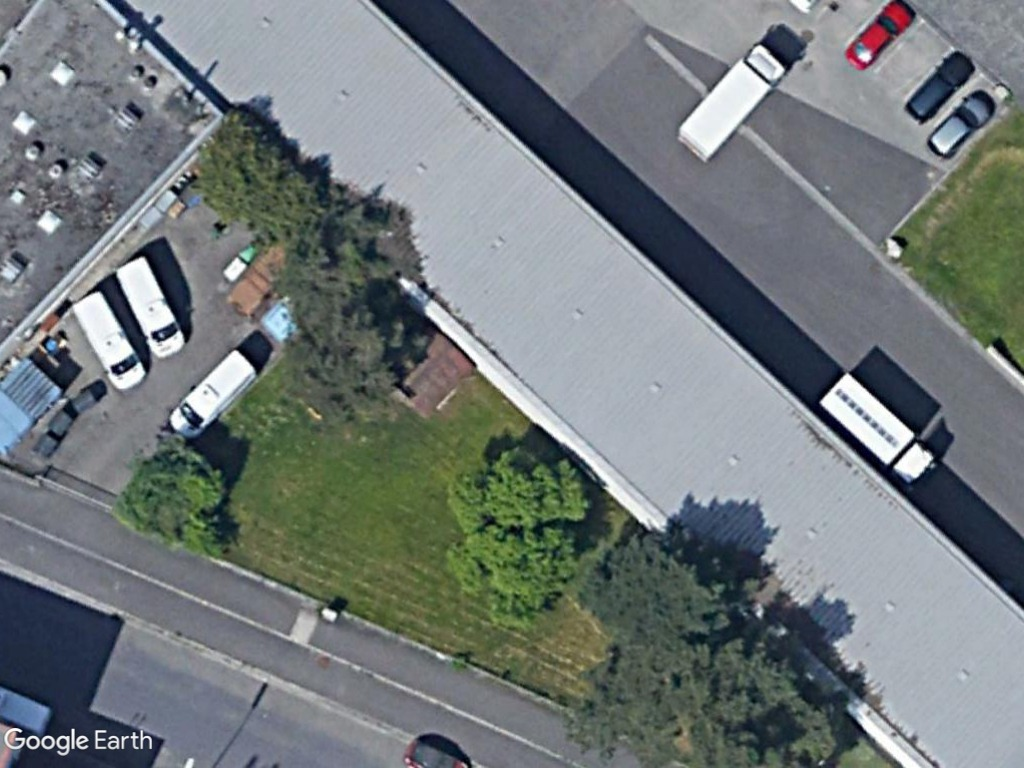car: (903, 45, 975, 126), (839, 0, 916, 74), (925, 92, 994, 160)
truck: (668, 37, 787, 165), (814, 370, 940, 489)
van: (66, 285, 149, 395), (167, 344, 260, 440), (112, 253, 188, 361)
